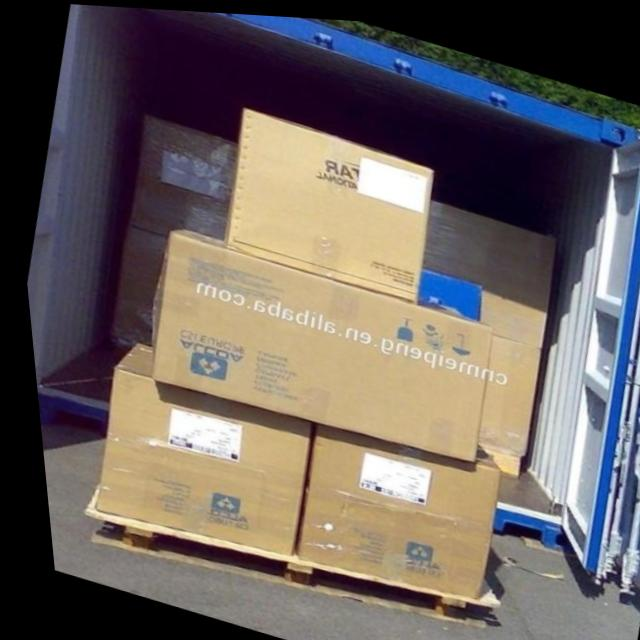box: (143, 226, 487, 456), (84, 341, 307, 552), (219, 103, 430, 298), (284, 420, 492, 594), (414, 194, 550, 341), (126, 113, 234, 238), (468, 329, 535, 450), (104, 223, 161, 348)
